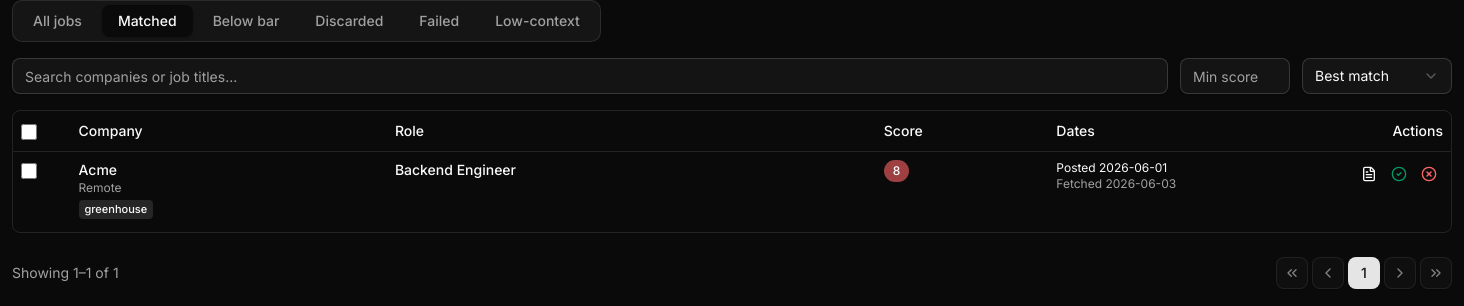
DiscoveredJobsTable › falls back to the verdict shortfall for a Discarded row with no disqualification reason
The image size is (1464, 306).
Click the button "Discarded" at [349, 21], box [299,5,399,37]
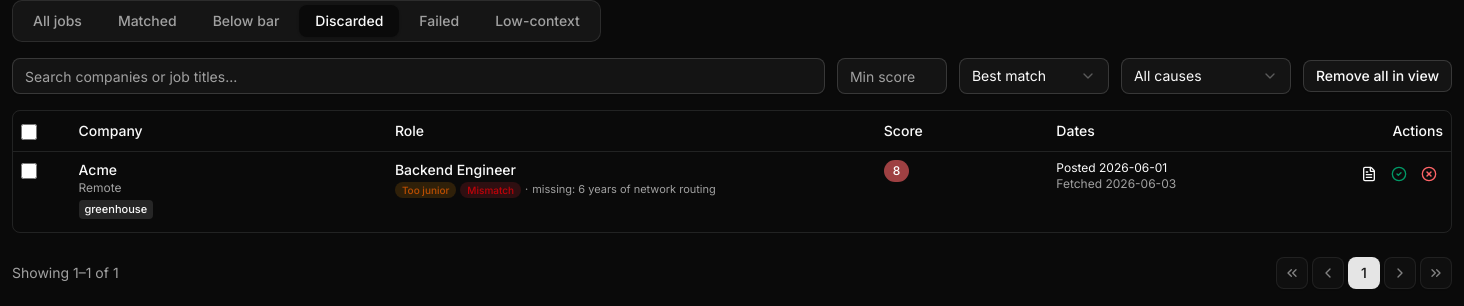
Check: the text "Too junior" is shown, box [395,182,456,198]
Check: the text "Mismatch" is shown, box [460,182,521,198]
